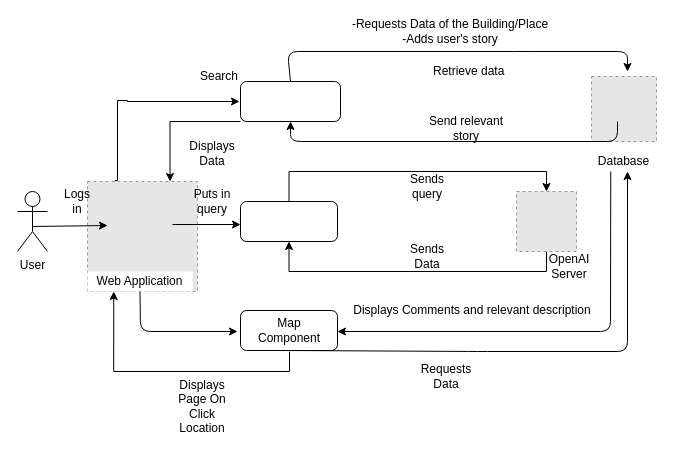
Some shapes in this 674 by 453 pixel diagram are drawn without their labels. Grey dashed boxes stand in for pictures. The shapes that lost their labels are listed below. From the top down, each one's centre as x and y in pixels, then its label:
the point at 290,101: Python Backend
the point at 289,221: Chatbot
